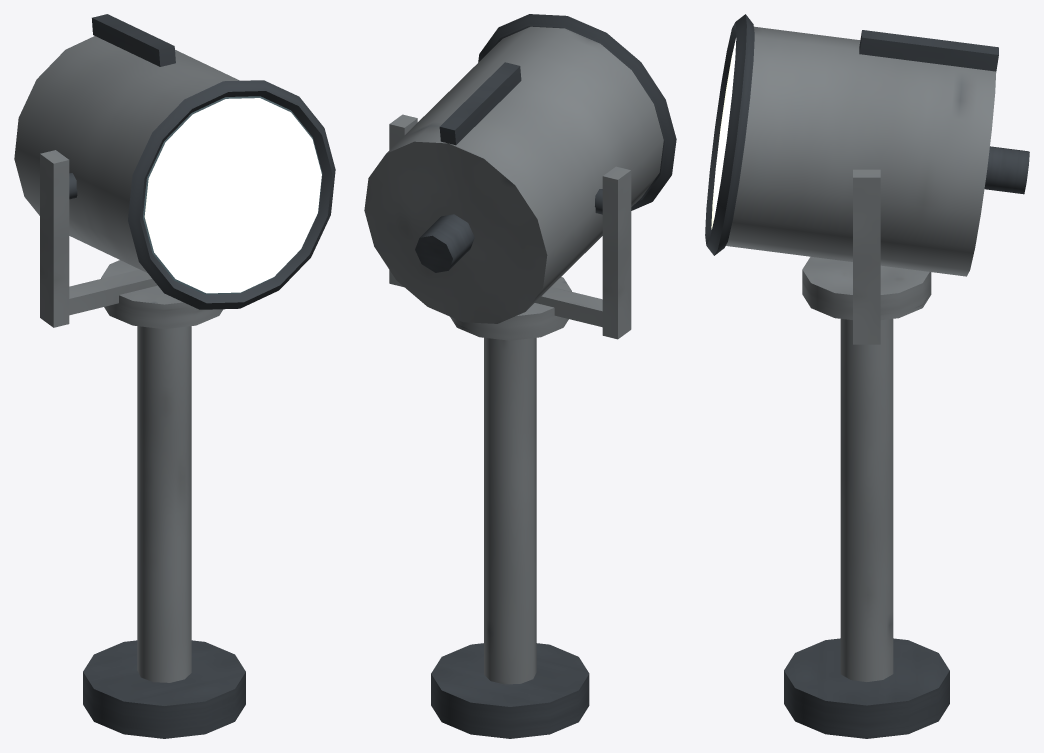
Rendered from searchlight.fbx.
The picture shows the model from 3 angles, left to right: view 1: azimuth 30°, elevation 25°; view 2: azimuth 150°, elevation 25°; view 3: azimuth 270°, elevation 25°; orthographic projection. The views are drawn at different scales.
Visible parts, largest first — view 1: searchlight_head, searchlight, searchlight_lens; view 2: searchlight_head, searchlight; view 3: searchlight_head, searchlight, searchlight_lens.
Part boxes in pixels (x1,y1,x2,y2): searchlight_head: [14, 14, 335, 329]; searchlight: [83, 326, 245, 738]; searchlight_lens: [144, 98, 321, 293]; searchlight_head: [364, 14, 676, 340]; searchlight: [431, 337, 589, 738]; searchlight_head: [705, 14, 1029, 344]; searchlight: [784, 319, 949, 738]; searchlight_lens: [711, 38, 736, 229].
Bounding box in the file's own units: 0.6 × 1.62 × 0.7045.
Materials: 1 (1 with a texture image).
